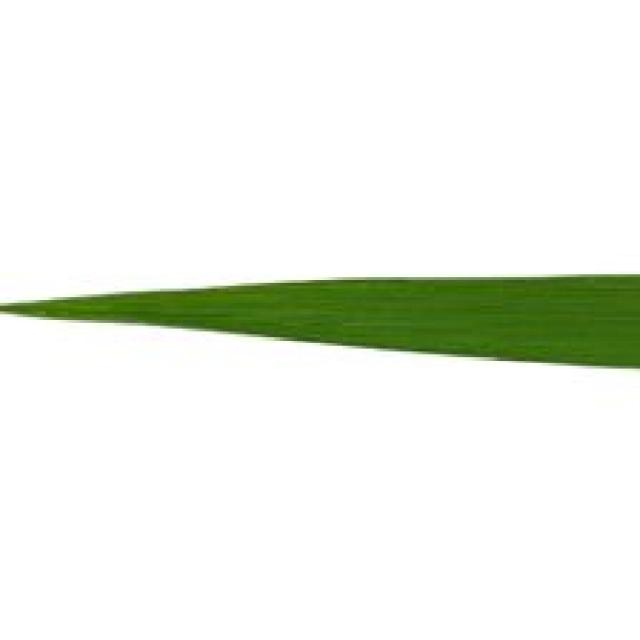Rice___Healthy_Rice_Plant: (0, 274, 637, 371)
